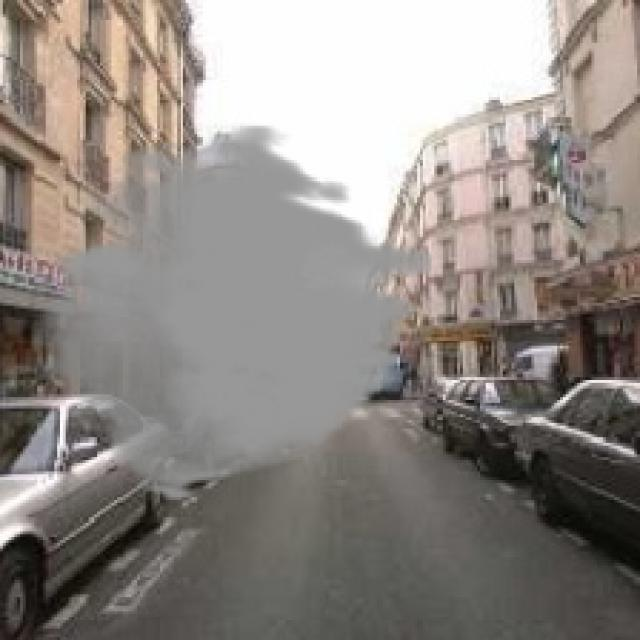Smoke: (31, 123, 432, 503)
